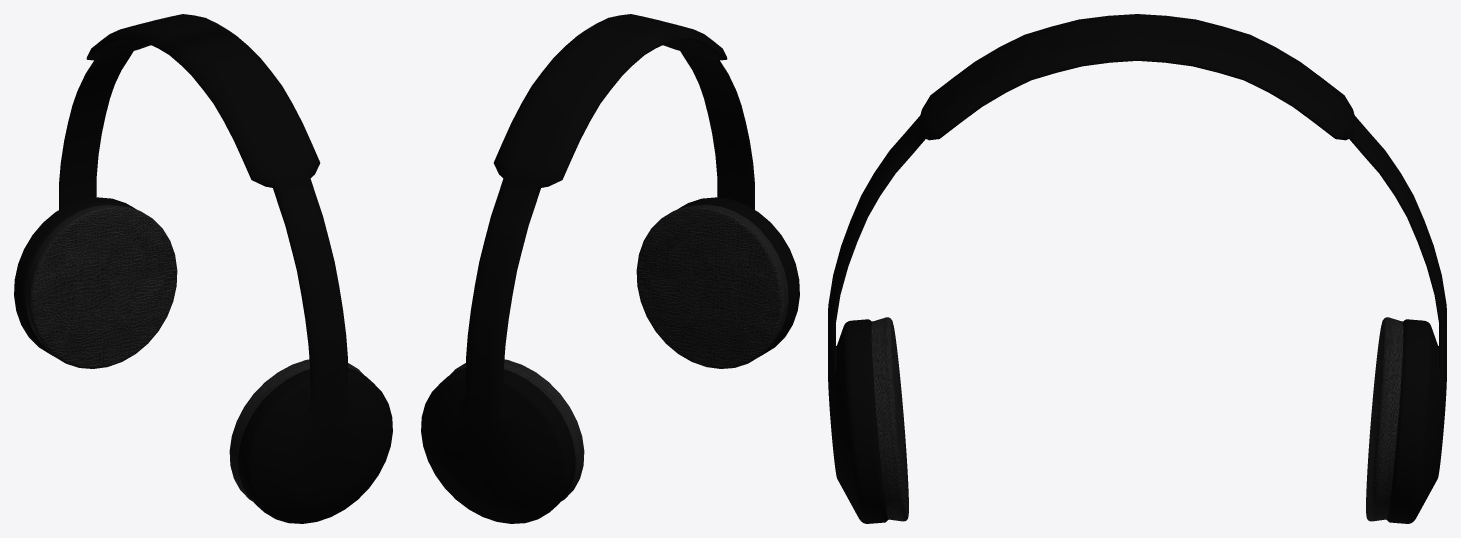
Rendered from headphones.fbx.
3 views of the same model, side by side, from view 1: azimuth 30°, elevation 25°; view 2: azimuth 150°, elevation 25°; view 3: azimuth 270°, elevation 25° (orthographic). The views are drawn at different scales.
Parts seen in each view (by area): view 1: Cylinder.004; view 2: Cylinder.004; view 3: Cylinder.004.
Part boxes in pixels (x1,y1,x2,y2): Cylinder.004: (14,14,392,523); Cylinder.004: (421,14,799,523); Cylinder.004: (828,14,1446,523).
Bounding box in the file's own units: 9.45 × 24.69 × 28.52.
Materials: 2 (1 with a texture image).
